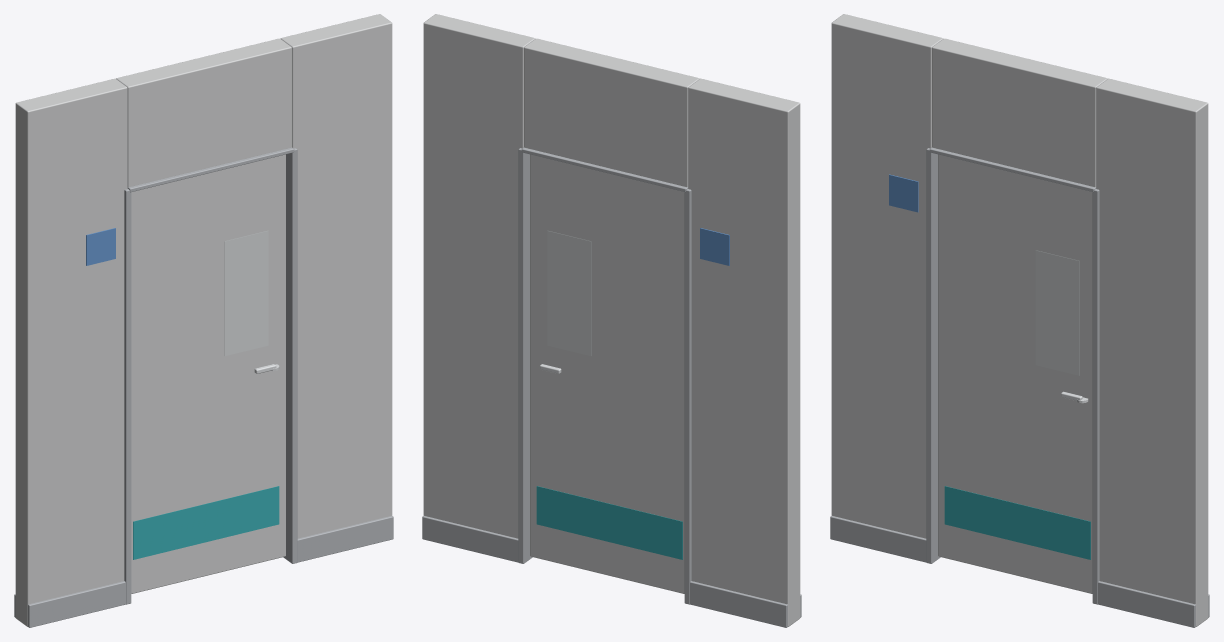
Rendered from Surgery Door Module (Dental Practice and Surgery).glb.
The picture shows the model from 3 angles, left to right: view 1: azimuth 30°, elevation 25°; view 2: azimuth 150°, elevation 25°; view 3: azimuth 330°, elevation 25°; orthographic projection.
Visible parts, largest first — view 1: surgery-door-module, door-a/white, door-a/teal, door-a/glass; view 2: surgery-door-module, door-a/white, door-a/teal, door-a/glass; view 3: surgery-door-module, door-a/white, door-a/teal, door-a/glass.
Boxes of the visible parts, bbox=[...] form: surgery-door-module: bbox=[14, 14, 393, 627]; door-a/white: bbox=[131, 154, 285, 593]; door-a/teal: bbox=[133, 486, 279, 559]; door-a/glass: bbox=[224, 231, 268, 355]; surgery-door-module: bbox=[422, 14, 801, 627]; door-a/white: bbox=[530, 154, 684, 593]; door-a/teal: bbox=[536, 486, 682, 559]; door-a/glass: bbox=[547, 231, 591, 355]; surgery-door-module: bbox=[830, 14, 1209, 627]; door-a/white: bbox=[938, 154, 1092, 593]; door-a/teal: bbox=[944, 486, 1090, 559]; door-a/glass: bbox=[1036, 250, 1079, 375].
Bounding box in the file's own units: 2 × 2.7 × 0.1579.
